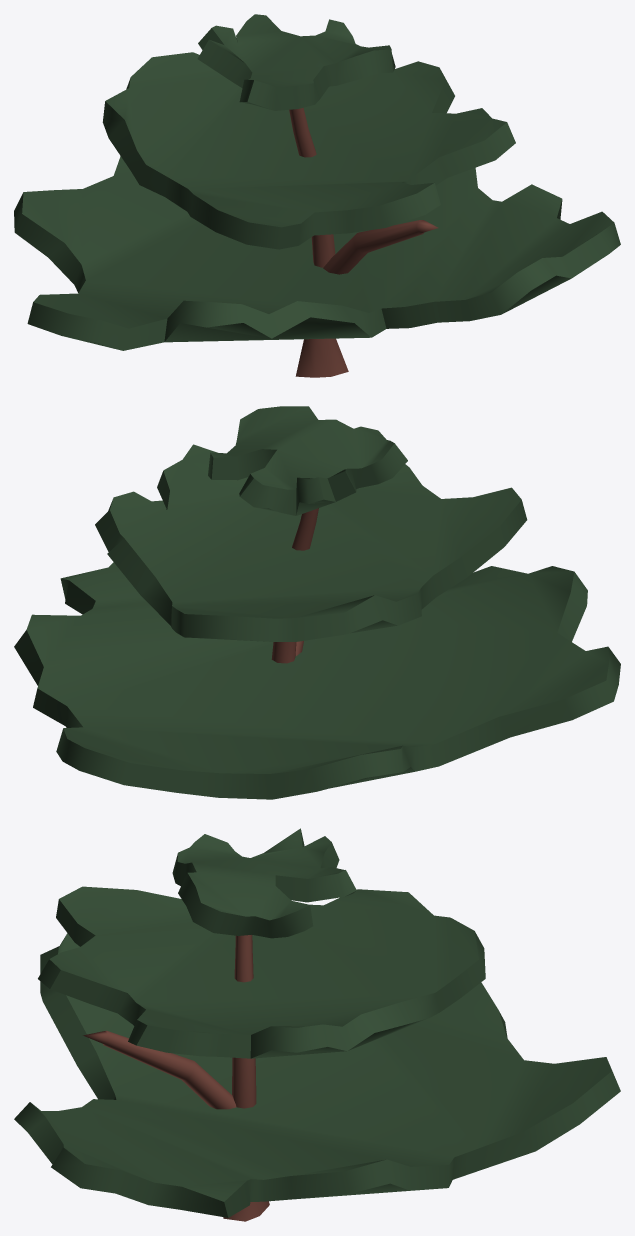
The model's file is s_branch_empty.fbx.
3 views of the same model, one above another, from view 1: azimuth 30°, elevation 25°; view 2: azimuth 150°, elevation 25°; view 3: azimuth 270°, elevation 25° (orthographic). The views are drawn at different scales.
Parts seen in each view (by area): view 1: s_bush, s_branch_empty; view 2: s_bush, s_branch_empty; view 3: s_bush, s_branch_empty.
Part boxes in pixels (x1=…): s_bush: x1=14, y1=14, x2=620, y2=350; s_branch_empty: x1=289, y1=107, x2=438, y2=377; s_bush: x1=14, y1=406, x2=620, y2=799; s_branch_empty: x1=271, y1=508, x2=318, y2=663; s_bush: x1=14, y1=828, x2=620, y2=1217; s_branch_empty: x1=83, y1=935, x2=269, y2=1221.
Size of the model in its own units: 144 by 137 by 84.57.
